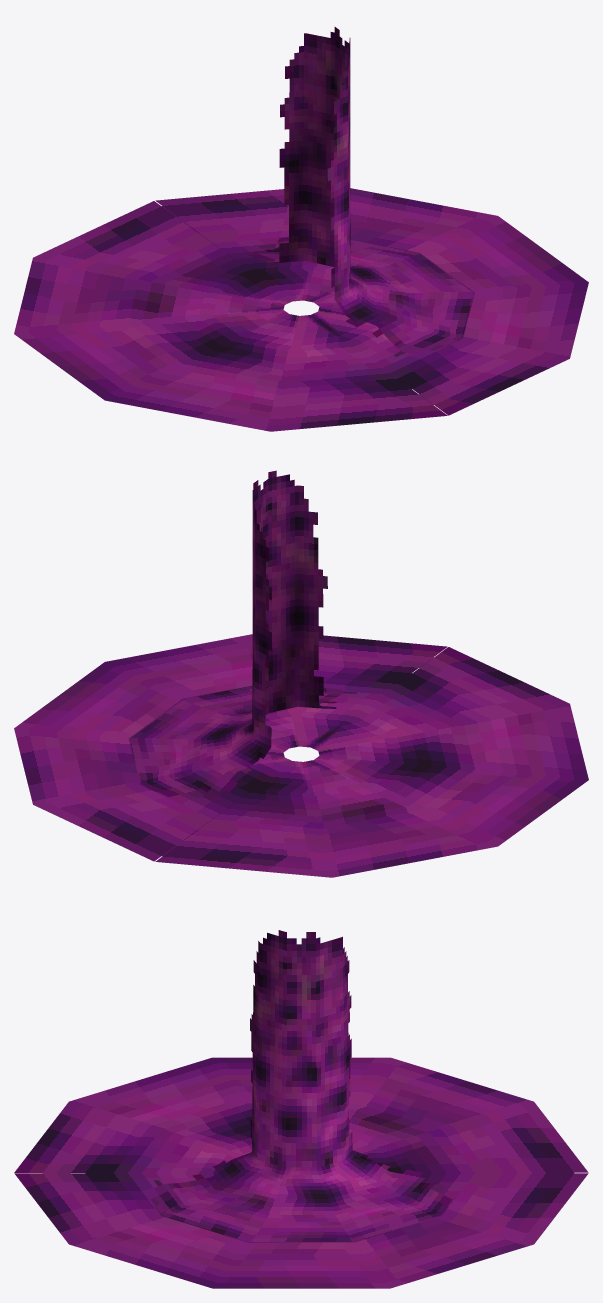
The model's file is eff_enem_MA_Duon_Kagemusi2_pori_S03_M.obj.
The picture shows the model from 3 angles, top to bottom: view 1: azimuth 30°, elevation 25°; view 2: azimuth 150°, elevation 25°; view 3: azimuth 270°, elevation 25°; orthographic projection. The views are drawn at different scales.
Parts seen in each view (by area): view 1: polygon0, polygon1; view 2: polygon0, polygon1; view 3: polygon0, polygon1.
Boxes of the visible parts, x1=… form: polygon0: x1=14, y1=188, x2=588, y2=431; polygon1: x1=249, y1=27, x2=473, y2=357; polygon0: x1=14, y1=634, x2=588, y2=877; polygon1: x1=129, y1=470, x2=357, y2=798; polygon0: x1=14, y1=1057, x2=588, y2=1288; polygon1: x1=150, y1=930, x2=452, y2=1242.
Bounding box in the file's own units: 27.71 × 14.91 × 29.14.
2 materials, 2 textured.
